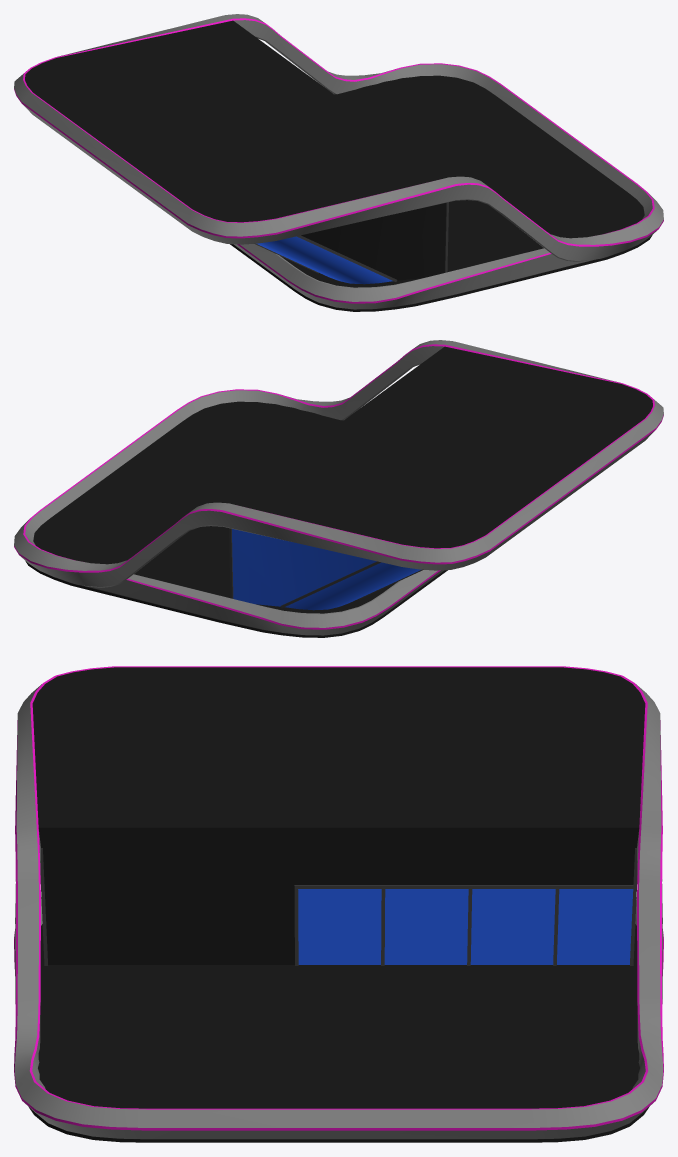
File: SM_Building_Roof_MK4.fbx
3 views of the same model, one above another, from view 1: azimuth 30°, elevation 25°; view 2: azimuth 150°, elevation 25°; view 3: azimuth 270°, elevation 25° (orthographic). The views are drawn at different scales.
Parts seen in each view (by area): view 1: SM_Building_Roof_MK4; view 2: SM_Building_Roof_MK4; view 3: SM_Building_Roof_MK4.
Boxes of the visible parts, x1,y1,x2,y2 form: SM_Building_Roof_MK4: (14,14,663,311); SM_Building_Roof_MK4: (14,340,663,637); SM_Building_Roof_MK4: (14,666,663,1142).
Bounding box in the file's own units: 2094 × 500 × 1788.
